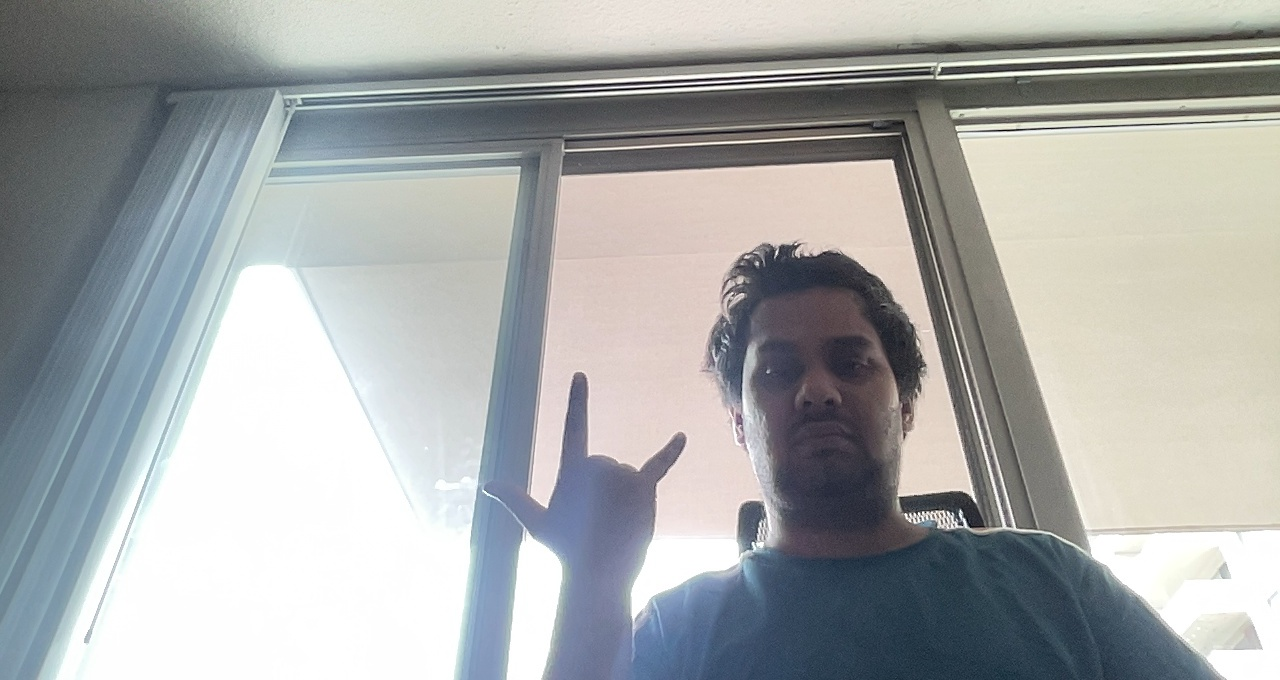rockon sign: (471, 364, 693, 584)
